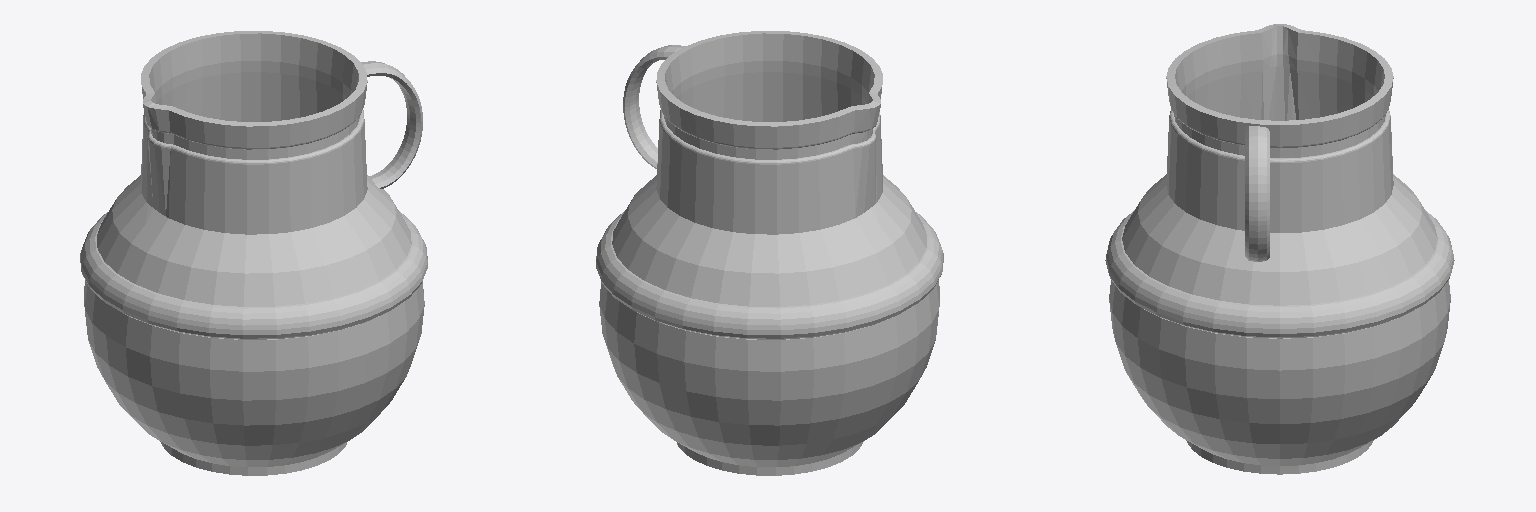
Rendered from SetA_Jug_Style_01.obj.
3 renders of one model, left to right at view 1: azimuth 30°, elevation 25°; view 2: azimuth 150°, elevation 25°; view 3: azimuth 270°, elevation 25°, orthographic.
Visible parts, largest first — view 1: SetA_Jug_Style_01; view 2: SetA_Jug_Style_01; view 3: SetA_Jug_Style_01.
Boxes of the visible parts, x1=… form: SetA_Jug_Style_01: x1=80, y1=31, x2=427, y2=475; SetA_Jug_Style_01: x1=596, y1=31, x2=943, y2=475; SetA_Jug_Style_01: x1=1105, y1=24, x2=1454, y2=474.
Bounding box in the file's own units: 0.2398 × 0.2687 × 0.2369.